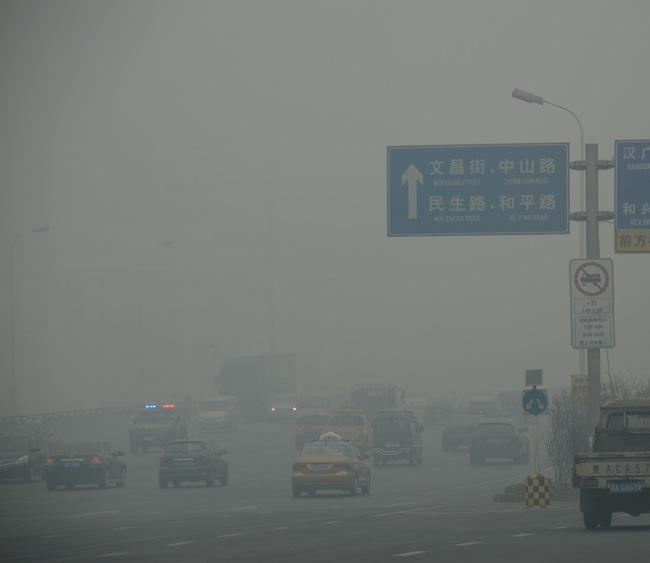bus: (211, 348, 297, 411)
car: (568, 392, 650, 528), (289, 429, 371, 499), (42, 438, 129, 490), (154, 437, 229, 490), (368, 407, 425, 466), (466, 416, 531, 467), (129, 403, 187, 456), (4, 433, 50, 480), (324, 408, 370, 454), (296, 383, 349, 419), (439, 413, 490, 450), (294, 409, 334, 450), (194, 395, 239, 431)
